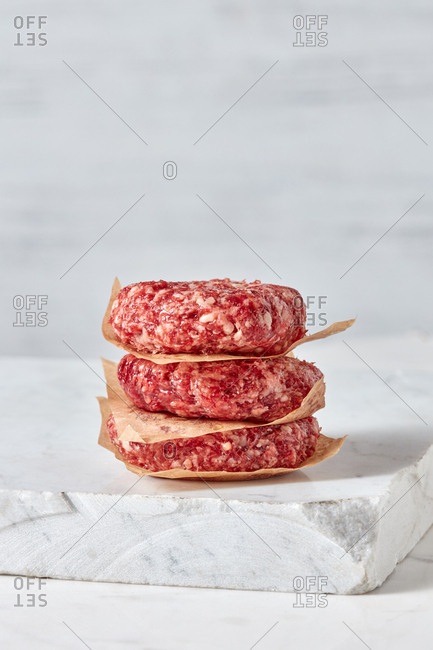ground_beef: (90, 389, 367, 482), (87, 266, 279, 356), (122, 344, 305, 427)
